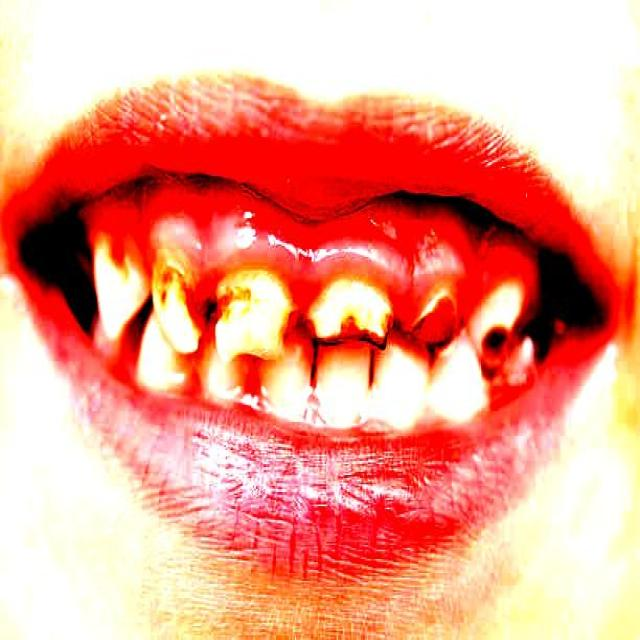caries: (282, 308, 320, 354), (485, 323, 520, 370), (337, 304, 366, 354)
